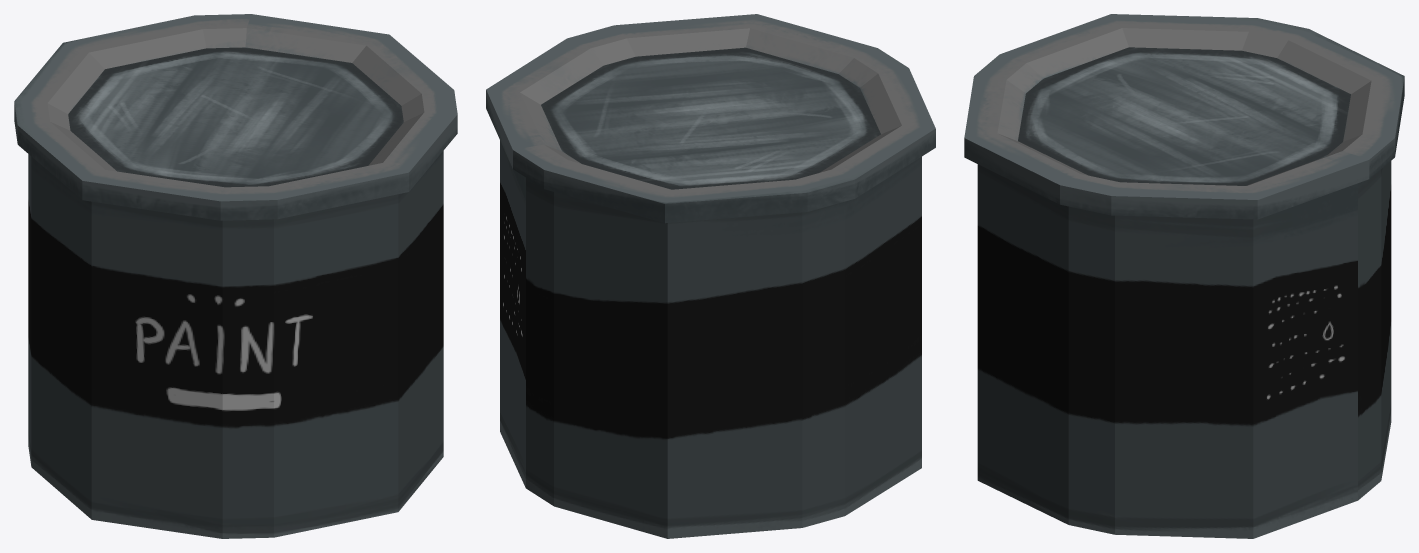
Rendered from Paintbucket.fbx.
3 views of the same model, side by side, from view 1: azimuth 30°, elevation 25°; view 2: azimuth 150°, elevation 25°; view 3: azimuth 270°, elevation 25° (orthographic).
Visible parts, largest first — view 1: Paintpbucket_single; view 2: Paintpbucket_single; view 3: Paintpbucket_single.
Boxes of the visible parts, x1=… form: Paintpbucket_single: x1=14, y1=14, x2=457, y2=538; Paintpbucket_single: x1=486, y1=14, x2=935, y2=538; Paintpbucket_single: x1=964, y1=14, x2=1404, y2=538.
Size of the model in its own units: 132 by 114 by 132.
